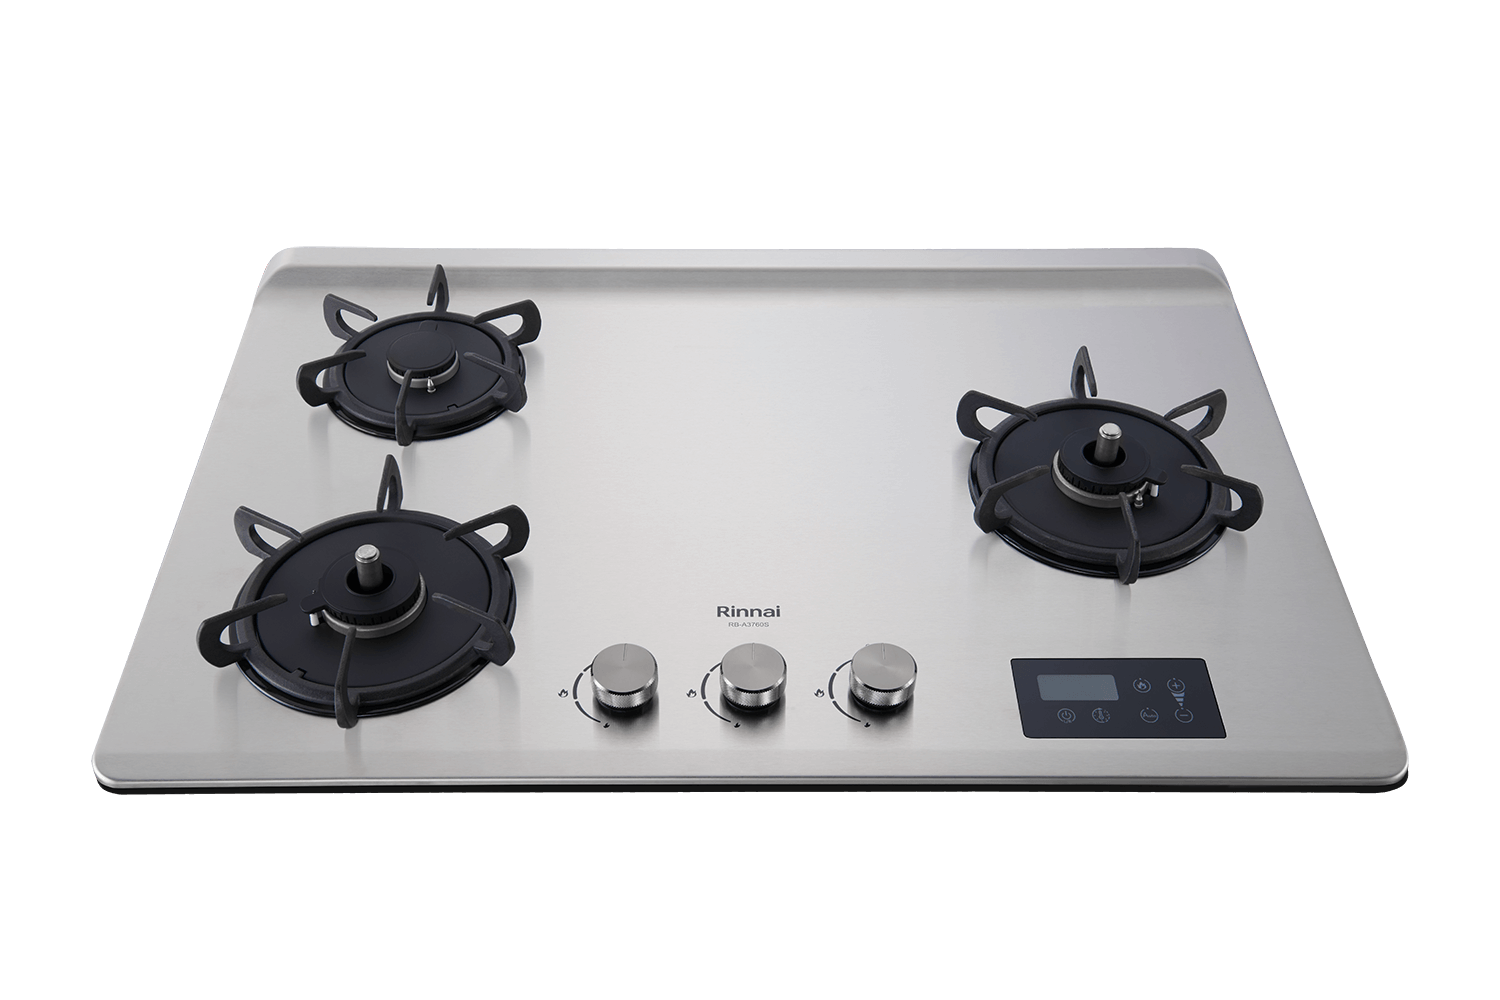gasoven: (103, 218, 1427, 805)
